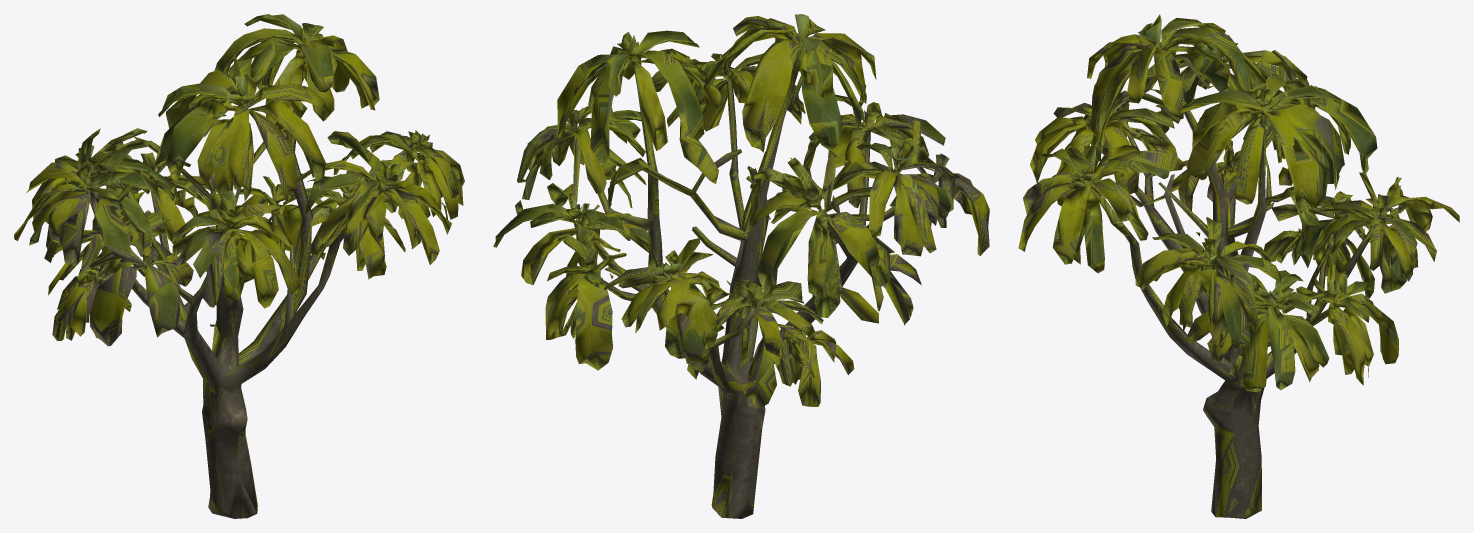
The model's file is oak-umbrella.glb.
3 renders of one model, left to right at view 1: azimuth 30°, elevation 25°; view 2: azimuth 150°, elevation 25°; view 3: azimuth 270°, elevation 25°, orthographic. The views are drawn at different scales.
Visible parts, largest first — view 1: world; view 2: world; view 3: world.
Boxes of the visible parts, left/top/right/bottom form: world: left=14, top=14, right=464, bottom=518; world: left=493, top=14, right=989, bottom=518; world: left=1018, top=14, right=1459, bottom=518.
Bounding box in the file's own units: 0.9577 × 1 × 0.8377.
1 material, 1 textured.
